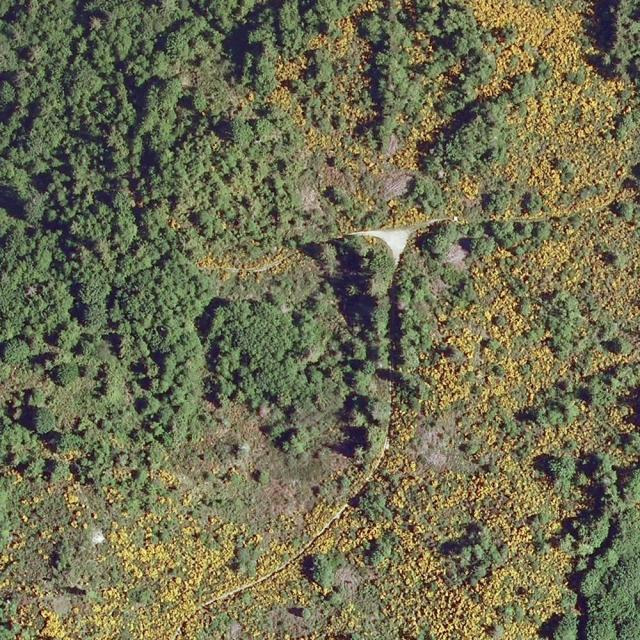greenland: (102, 380, 387, 622), (389, 210, 640, 469), (188, 262, 400, 493), (322, 457, 536, 640), (0, 464, 184, 640), (0, 227, 215, 375), (0, 332, 209, 484), (541, 455, 640, 640), (181, 551, 361, 640), (66, 178, 190, 266), (302, 234, 397, 299), (530, 455, 578, 521)
unmetalled_road: (347, 208, 412, 263), (199, 259, 285, 278), (228, 566, 278, 595), (197, 591, 235, 610), (291, 540, 318, 564), (316, 514, 337, 538), (371, 451, 385, 481), (348, 482, 369, 501), (274, 558, 294, 574), (390, 285, 395, 336), (338, 500, 354, 515), (187, 610, 203, 624), (390, 334, 395, 373), (387, 375, 391, 411), (382, 436, 391, 451), (389, 264, 396, 283), (389, 406, 392, 417)
